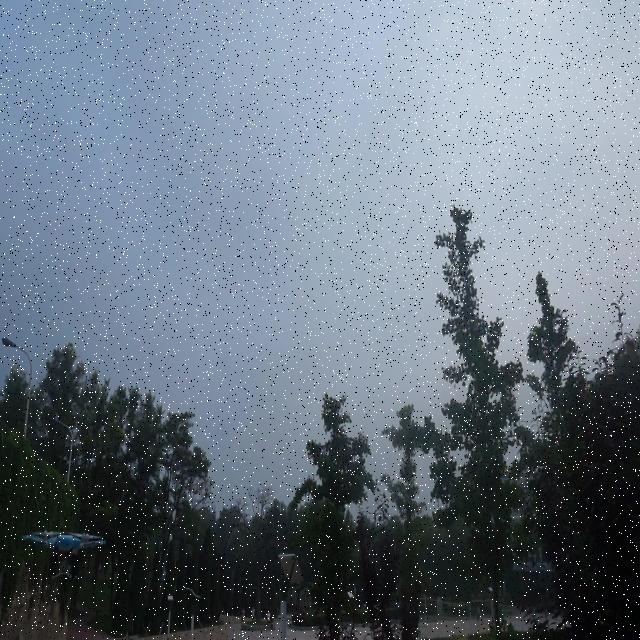UAV: (23, 530, 106, 582)
